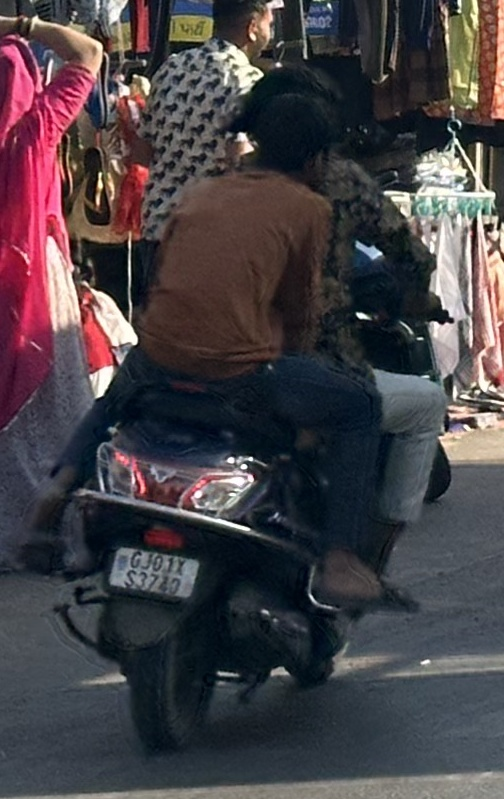BikeWithRider: (19, 65, 455, 751)
NoHelmet: (251, 66, 354, 157), (244, 96, 327, 184)
